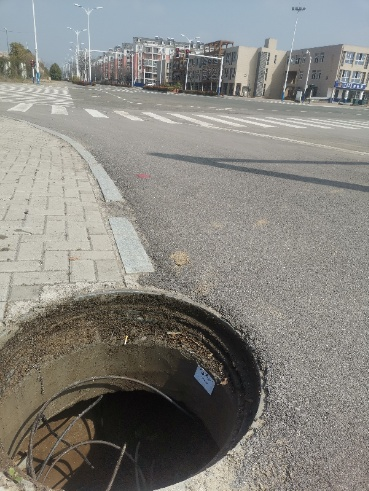lose: (1, 289, 267, 491)
